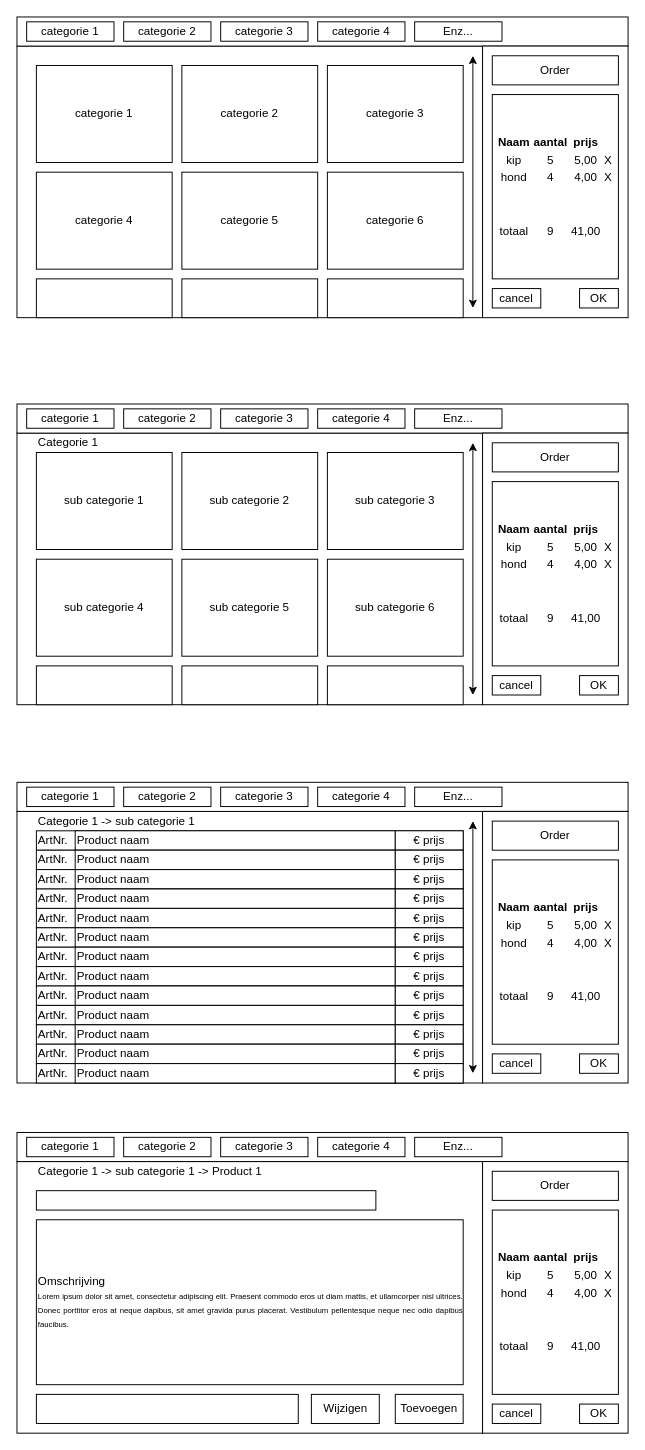
The diagram is 645 pixels wide and 1450 high, and some of its shapes have lost their labels. The centre of each missing label's shape, as x and y in pixels:
"aantal" goes at (x=166, y=1408).
"Product 1" goes at (x=205, y=1200).
